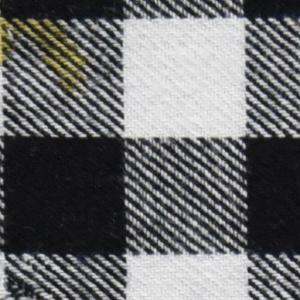Damage: (1, 250, 50, 300)
Stain: (1, 13, 92, 99)
